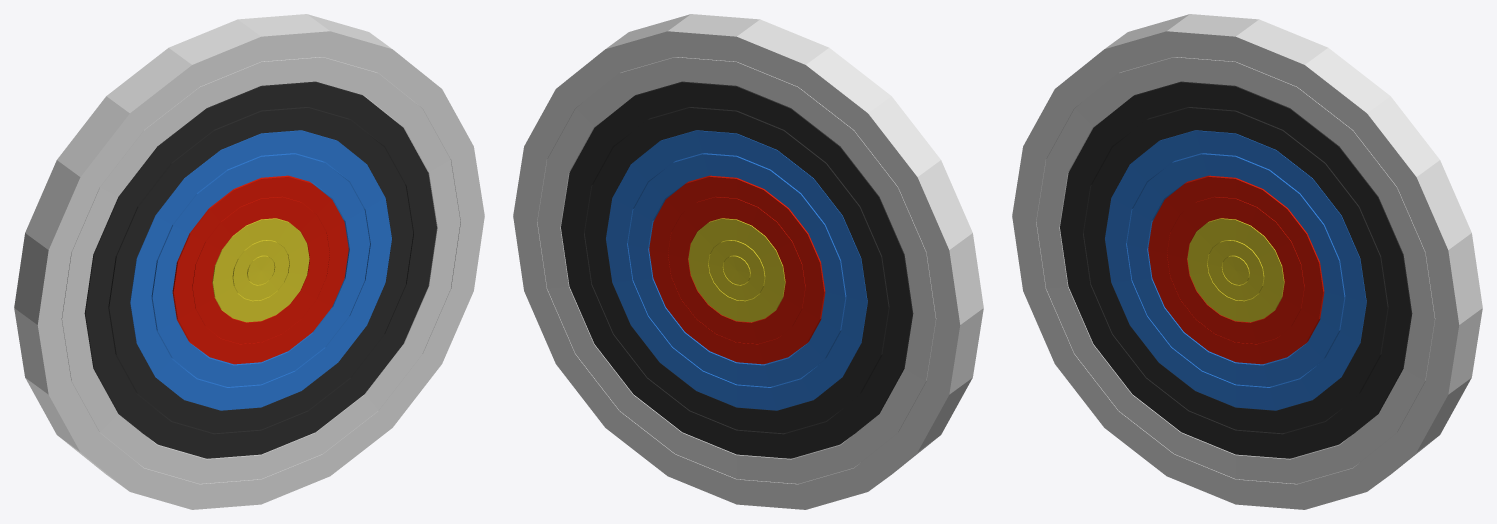
File: target.glb
3 renders of one model, left to right at view 1: azimuth 30°, elevation 25°; view 2: azimuth 150°, elevation 25°; view 3: azimuth 330°, elevation 25°, orthographic.
Parts seen in each view (by area): view 1: 1, 2, 3, 4, 5, 6, 7, 8, 9, 10, 11; view 2: 1, 2, 3, 4, 5, 6, 7, 8, 9, 10, 11; view 3: 1, 2, 3, 4, 5, 6, 7, 8, 9, 10, 11.
Part boxes in pixels (left/top/right/bottom): 1: left=14, top=14, right=484, bottom=509; 2: left=61, top=57, right=460, bottom=483; 3: left=84, top=81, right=436, bottom=458; 4: left=108, top=107, right=413, bottom=433; 5: left=130, top=130, right=391, bottom=410; 6: left=151, top=153, right=369, bottom=386; 7: left=172, top=175, right=348, bottom=364; 8: left=192, top=196, right=329, bottom=343; 9: left=212, top=218, right=309, bottom=322; 10: left=232, top=240, right=289, bottom=300; 11: left=247, top=255, right=274, bottom=284; 1: left=513, top=14, right=983, bottom=509; 2: left=537, top=57, right=936, bottom=483; 3: left=561, top=81, right=913, bottom=458; 4: left=584, top=107, right=889, bottom=433; 5: left=606, top=130, right=867, bottom=410; 6: left=628, top=153, right=846, bottom=386; 7: left=649, top=175, right=825, bottom=364; 8: left=668, top=196, right=805, bottom=343; 9: left=688, top=218, right=785, bottom=322; 10: left=708, top=240, right=765, bottom=300; 11: left=723, top=255, right=750, bottom=284; 1: left=1012, top=14, right=1482, bottom=509; 2: left=1036, top=57, right=1435, bottom=483; 3: left=1060, top=81, right=1412, bottom=458; 4: left=1083, top=107, right=1388, bottom=433; 5: left=1105, top=130, right=1366, bottom=410; 6: left=1127, top=153, right=1345, bottom=386; 7: left=1148, top=175, right=1324, bottom=364; 8: left=1167, top=196, right=1304, bottom=343; 9: left=1187, top=218, right=1284, bottom=322; 10: left=1207, top=240, right=1264, bottom=300; 11: left=1222, top=255, right=1249, bottom=284.
Size of the model in its own units: 0.9731 by 0.9731 by 0.089.
